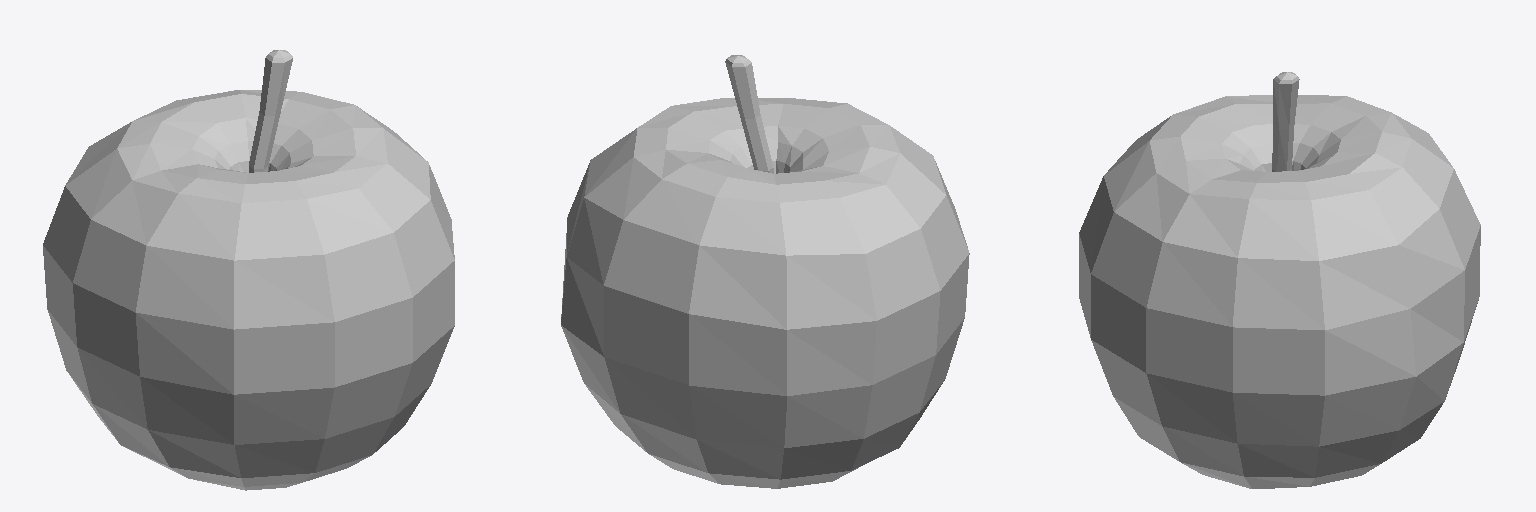
Rendered from apple.obj.
3 views of the same model, side by side, from view 1: azimuth 30°, elevation 25°; view 2: azimuth 150°, elevation 25°; view 3: azimuth 270°, elevation 25° (orthographic).
Visible parts, largest first — view 1: Apple_1_apple; view 2: Apple_1_apple; view 3: Apple_1_apple.
Part boxes in pixels (left/top/right/bottom): Apple_1_apple: left=43, top=50, right=454, bottom=490; Apple_1_apple: left=561, top=55, right=969, bottom=488; Apple_1_apple: left=1079, top=72, right=1480, bottom=488.
Bounding box in the file's own units: 4.43 × 4.68 × 4.33.